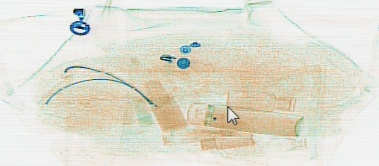pressure: (187, 101, 303, 137)
